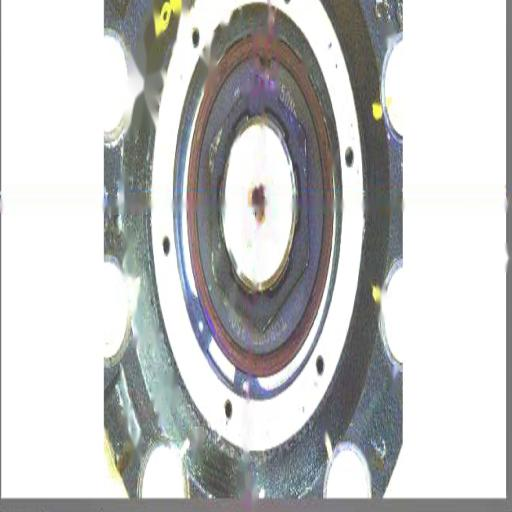center: (251, 184, 266, 224)
notch: (255, 48, 278, 81)
